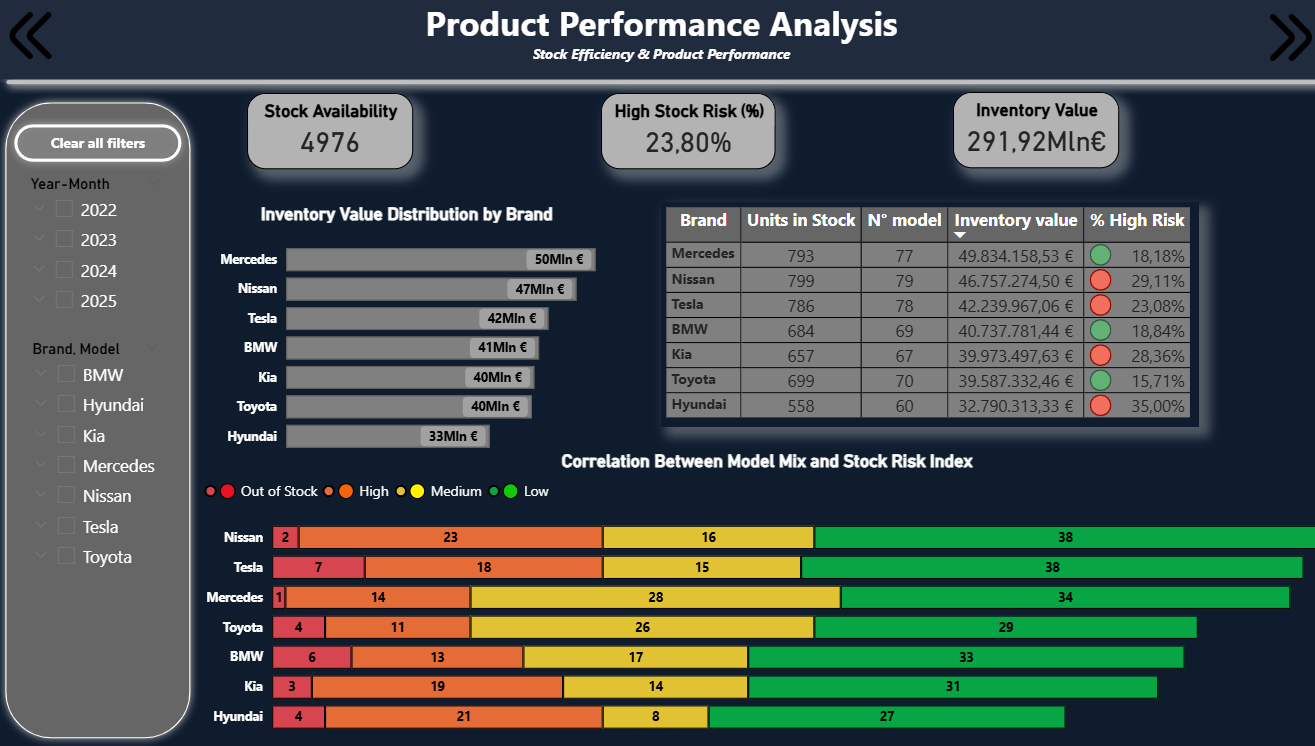

Layout of this report page (visuals, bound fields, positions):
{"tool":"powerbi","page":{"name":"Product & Stock","canvas":[1280,720],"ordinal":5},"visuals":[{"type":"shape","box":[0,0,1280,84.6],"z":0},{"type":"shape","box":[0,72.5,1280,23.2],"z":1000},{"type":"textbox","box":[0,0,1280,79],"z":2000},{"type":"image","box":[0,17.3,63.6,45.3],"z":3000},{"type":"image","box":[1207.8,19.4,63.6,45.3],"z":4000},{"type":"shape","box":[0,95.6,193,624.4],"z":5000},{"type":"barChart","title":"Inventory Value Distribution by Brand","fields":{"Category":["cars_clean.Brand"],"Y":["MISURE.Valore Magazzino"]},"box":[207,200,371,251],"z":6000},{"type":"slicer","fields":{"Values":["cars_clean.Brand Gerarchia.Brand","cars_clean.Brand Gerarchia.Model"]},"box":[21,326,146,288],"z":7000},{"type":"card","title":"Stock Availability","fields":{"Values":["MISURE.Quantita in stock"]},"box":[239.3,94.5,158.9,73.4],"z":8000},{"type":"actionButton","box":[8.6,116.5,175.8,51.8],"z":9000},{"type":"slicer","fields":{"Values":["CALENDARIO.Date.Variazione.Gerarchia data.Anno","CALENDARIO.Date.Variazione.Gerarchia data.Mese"]},"box":[19.1,167.9,149.8,178],"z":10000},{"type":"card","title":"High Stock Risk (%)","fields":{"Values":["MISURE.% Rischio Alto"]},"box":[577.4,94.7,166.9,73.3],"z":11000},{"type":"barChart","title":"Correlation Between Model Mix and Stock Risk Index","fields":{"Series":["cars_clean.Rischio Stock"],"Category":["cars_clean.Brand"],"Y":["CountNonNull(cars_clean.Car_ID)"]},"box":[193,436,1087,284],"z":12000},{"type":"card","title":"Inventory Value","fields":{"Values":["MISURE.Valore Magazzino"]},"box":[915,94,159,73],"z":13000},{"type":"pivotTable","fields":{"Rows":["cars_clean.Brand"],"Values":["MISURE.Quantita in stock","Count(cars_clean.Car_ID)","MISURE.Valore Magazzino","MISURE.% Rischio Alto"]},"box":[635.2,199,514.7,215.2],"z":14000}]}

Visuals, with their boxes in screenshot pixels (x1, y1, x2, y2), scaled from the page's 1280x720 canvas onto the 1315x746 screenshot:
shape: (x1=0, y1=0, x2=1314, y2=88)
shape: (x1=0, y1=75, x2=1314, y2=99)
textbox: (x1=0, y1=0, x2=1314, y2=82)
image: (x1=0, y1=18, x2=65, y2=65)
image: (x1=1241, y1=20, x2=1306, y2=67)
shape: (x1=0, y1=99, x2=198, y2=745)
"Inventory Value Distribution by Brand" barChart: (x1=213, y1=207, x2=594, y2=467)
slicer - cars_clean.Brand Gerarchia.Brand x cars_clean.Brand Gerarchia.Model: (x1=22, y1=338, x2=172, y2=636)
"Stock Availability" card: (x1=246, y1=98, x2=409, y2=174)
actionButton: (x1=9, y1=121, x2=189, y2=174)
slicer - CALENDARIO.Date.Variazione.Gerarchia data.Anno x CALENDARIO.Date.Variazione.Gerarchia data.Mese: (x1=20, y1=174, x2=174, y2=358)
"High Stock Risk (%)" card: (x1=593, y1=98, x2=765, y2=174)
"Correlation Between Model Mix and Stock Risk Index" barChart: (x1=198, y1=452, x2=1314, y2=745)
"Inventory Value" card: (x1=940, y1=97, x2=1103, y2=173)
pivotTable - cars_clean.Brand x MISURE.Quantita in stock: (x1=653, y1=206, x2=1181, y2=429)
